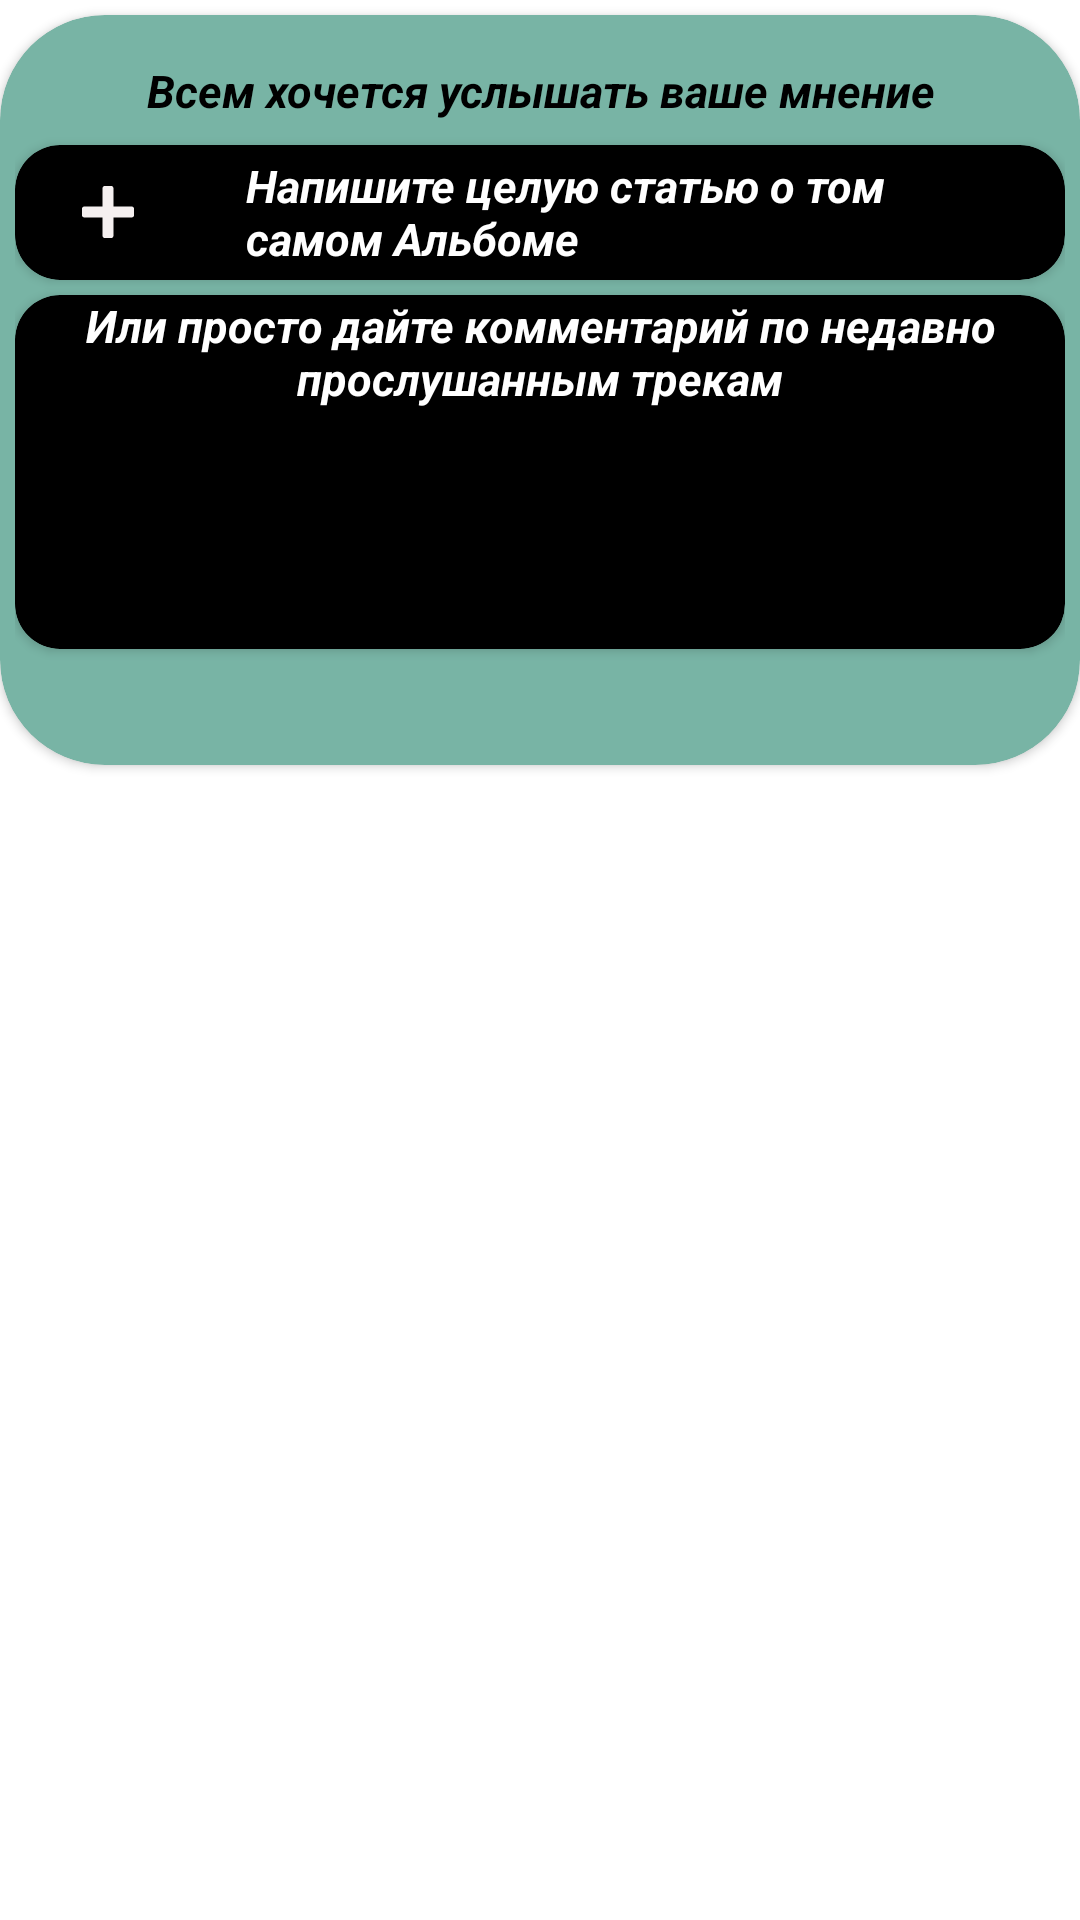

Icon bounding boxes for this 1080 × 1920 phone screenshot, format BBox(x1, y1, x2, y2):
add: BBox(82, 186, 134, 238)
